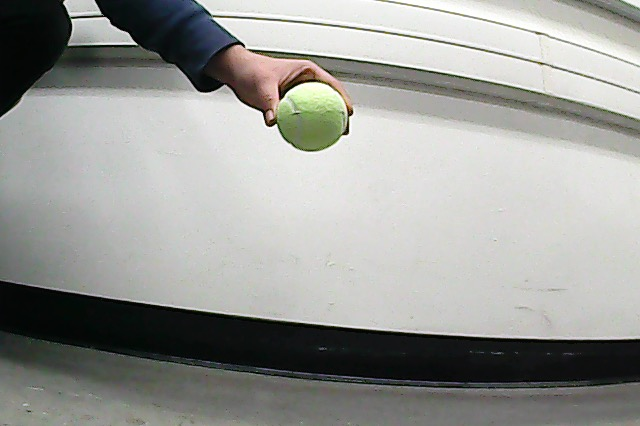ball: (273, 80, 351, 155)
